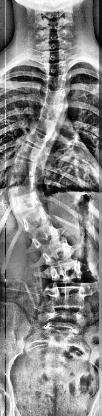Vertebrae: (49, 285, 85, 307), (49, 262, 83, 280), (17, 209, 47, 228), (29, 228, 59, 246), (41, 243, 71, 261), (9, 176, 35, 192), (10, 192, 38, 206), (34, 116, 58, 132), (16, 144, 40, 160), (12, 159, 36, 175), (26, 130, 48, 146), (40, 104, 64, 118), (45, 90, 68, 104), (46, 76, 68, 90), (43, 39, 65, 51), (43, 51, 65, 63), (44, 64, 66, 76)
